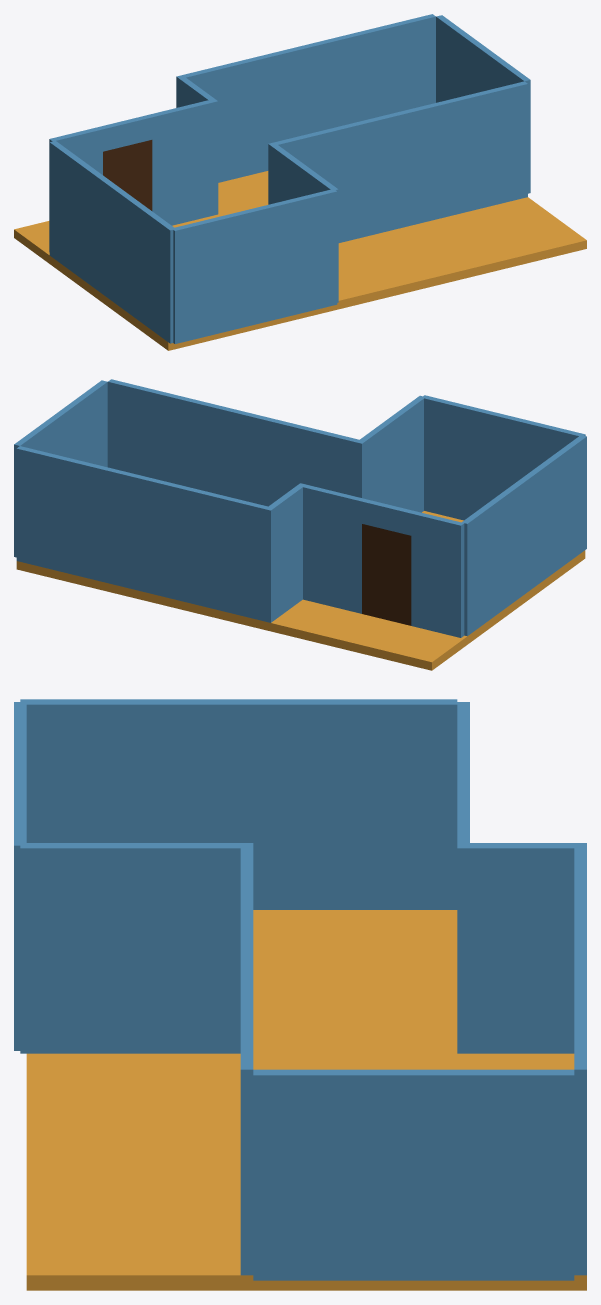
The model's file is Room (Camera).fbx.
3 renders of one model, top to bottom at view 1: azimuth 30°, elevation 25°; view 2: azimuth 150°, elevation 25°; view 3: azimuth 270°, elevation 25°, orthographic. The views are drawn at different scales.
Visible parts, largest first — view 1: Cube.011, Cube.002, Cube.008; view 2: Cube.011, Cube.002, Cube.008; view 3: Cube.011, Cube.002.
Part boxes in pixels (box(x1,y1,x2,y2)): Cube.011: box(49, 14, 530, 343); Cube.002: box(14, 171, 586, 350); Cube.008: box(103, 140, 152, 210); Cube.011: box(14, 379, 586, 637); Cube.002: box(16, 511, 585, 670); Cube.008: box(362, 524, 411, 625); Cube.011: box(14, 699, 586, 1280); Cube.002: box(26, 910, 586, 1290).
Size of the model in its own units: 1570 by 430 by 1011.
